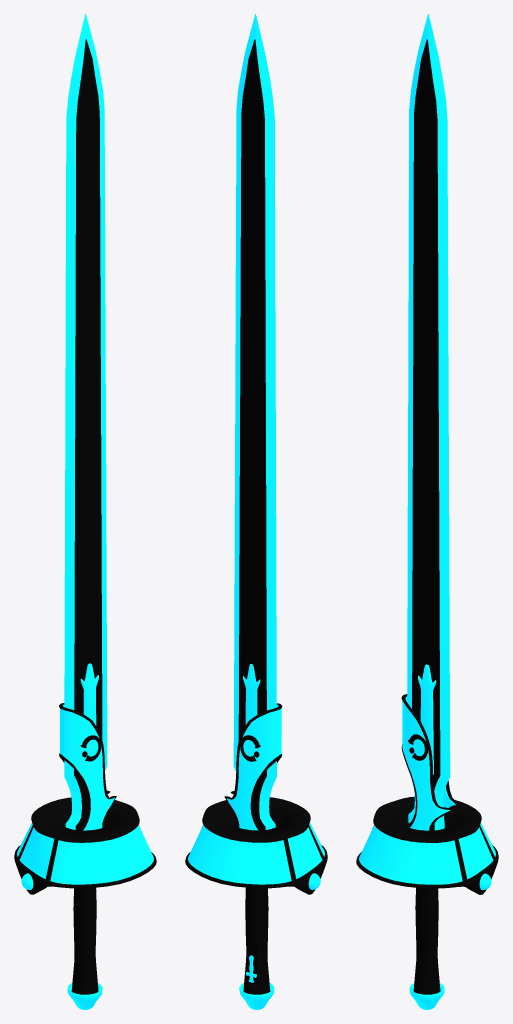
File: saber1.glb
The picture shows the model from 3 angles, left to right: view 1: azimuth 30°, elevation 25°; view 2: azimuth 150°, elevation 25°; view 3: azimuth 330°, elevation 25°; orthographic projection.
Parts seen in each view (by area): view 1: Cylinder.017; view 2: Cylinder.017; view 3: Cylinder.017.
Part boxes in pixels (x1=…): Cylinder.017: x1=14, y1=14, x2=156, y2=1009; Cylinder.017: x1=185, y1=14, x2=327, y2=1009; Cylinder.017: x1=356, y1=14, x2=498, y2=1009.
Size of the model in its own units: 0.2449 by 1.85 by 0.2345.
